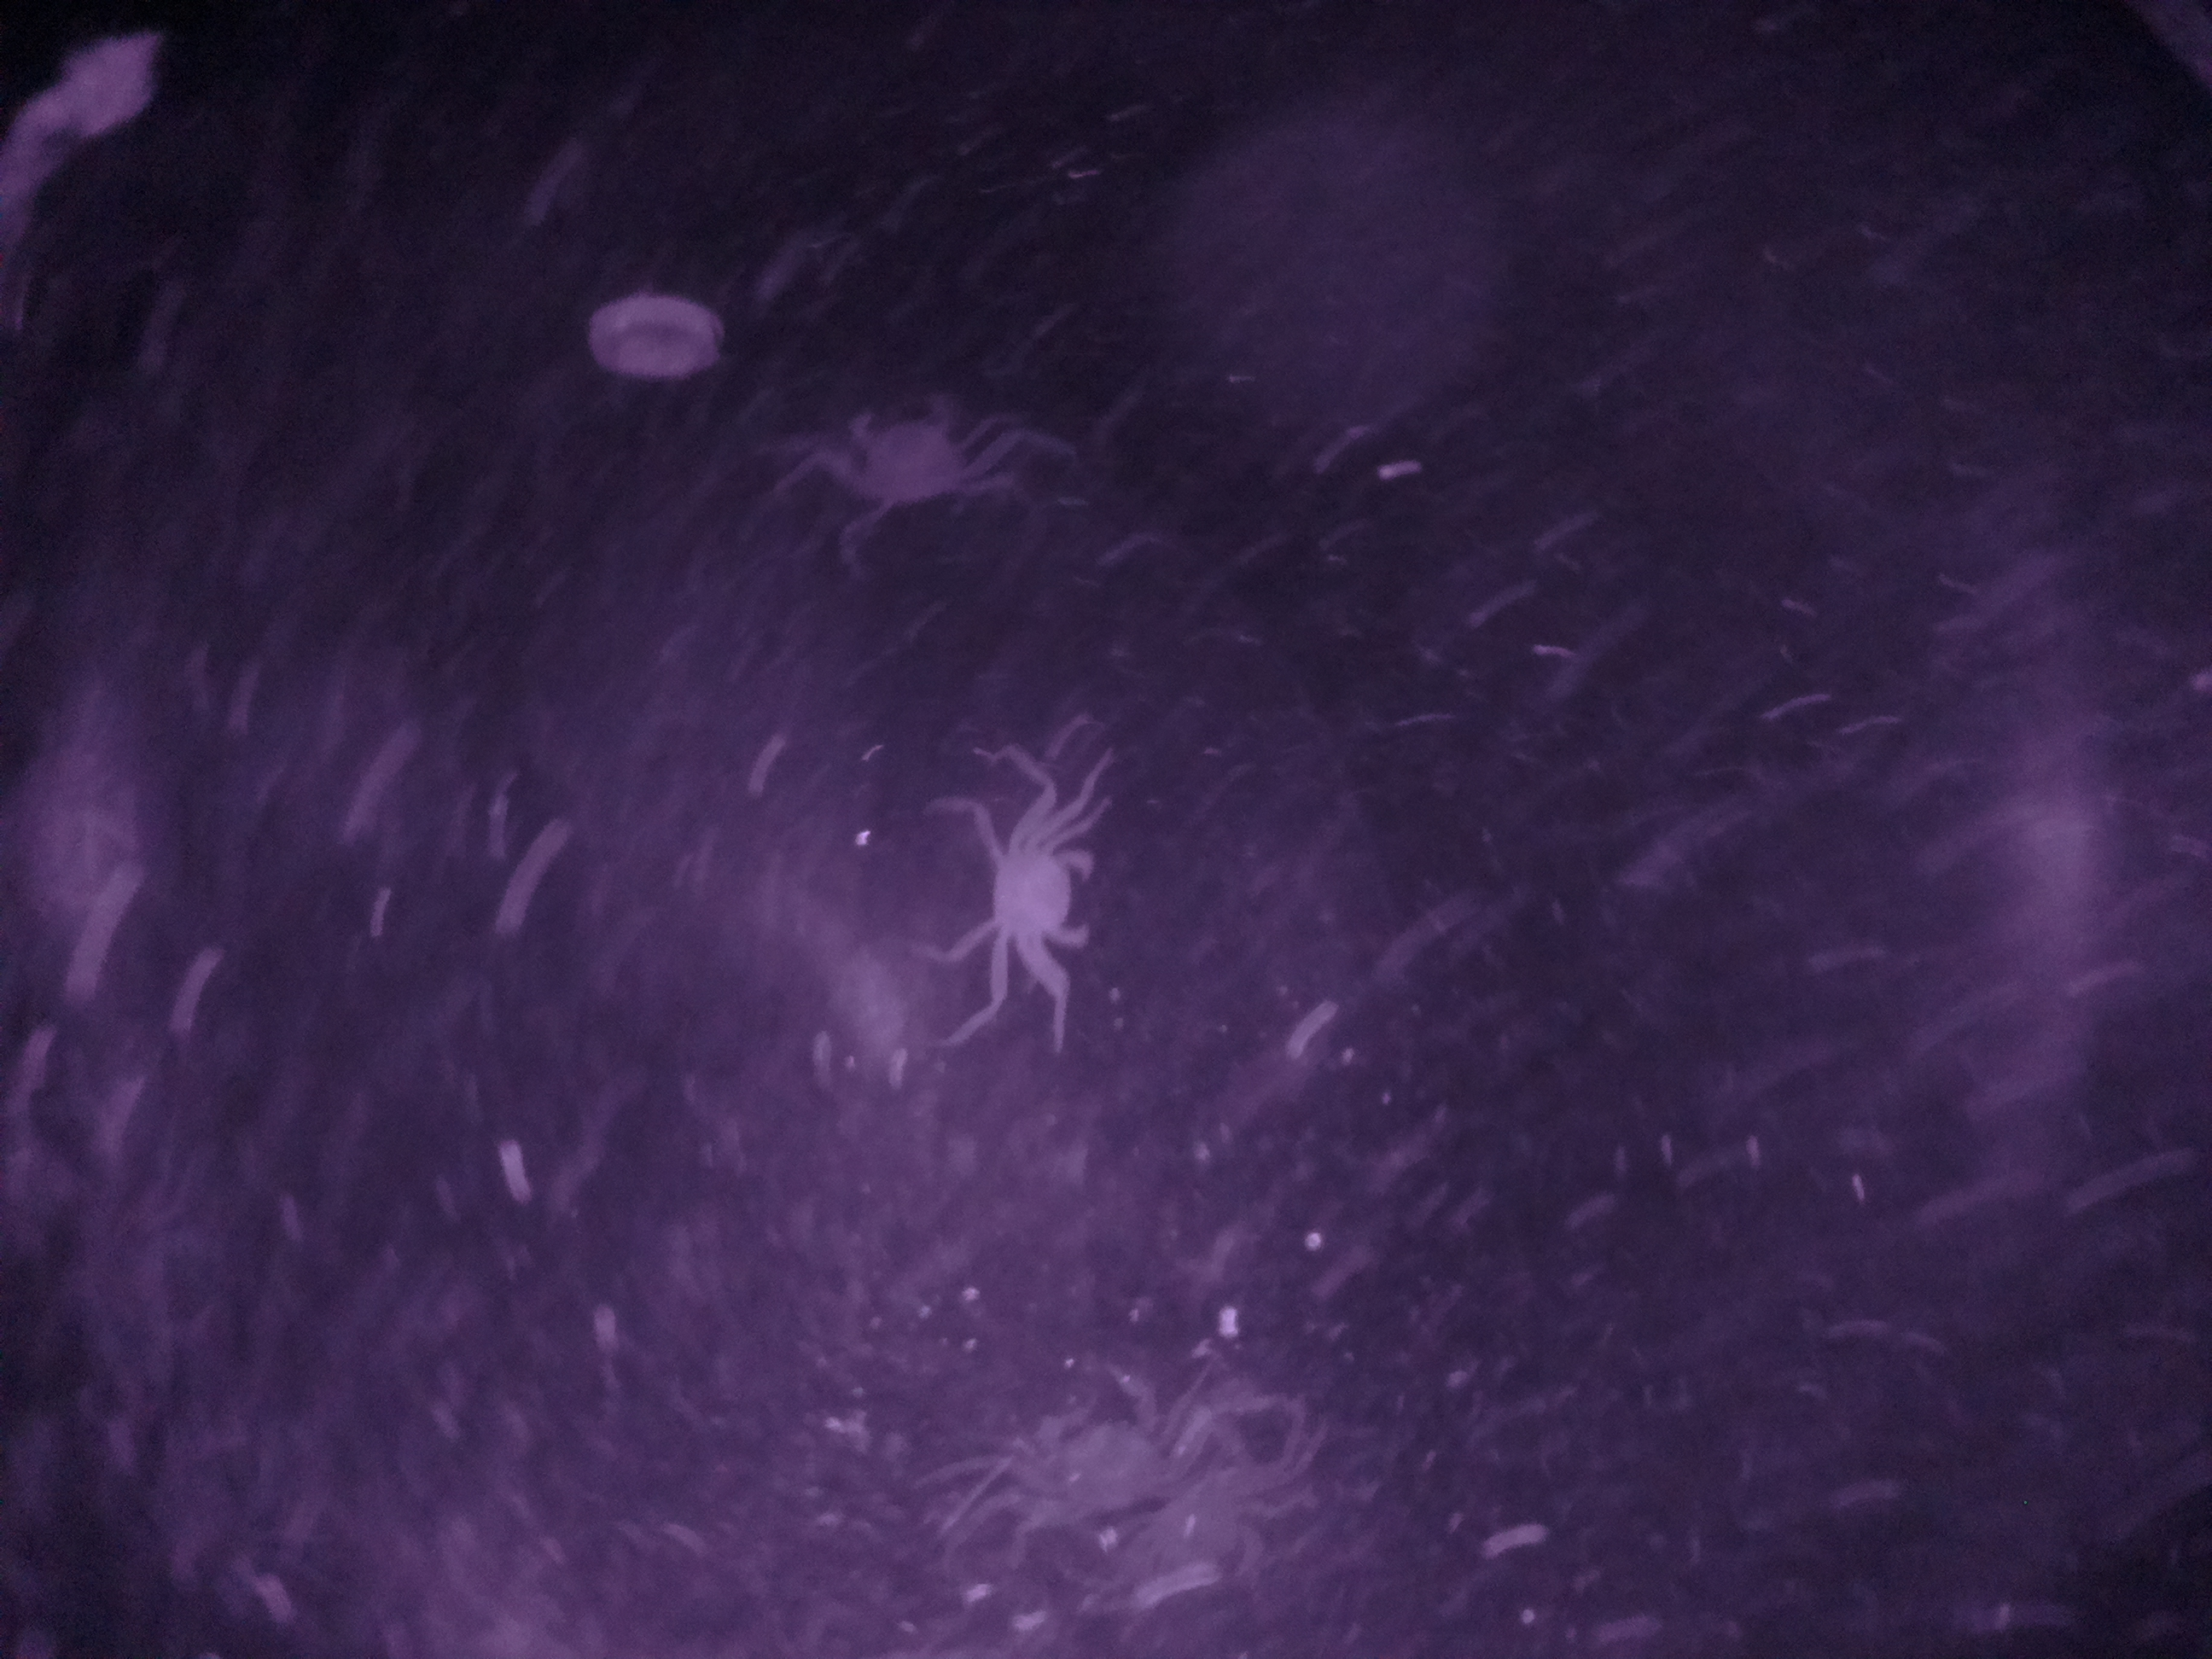Crab: (934, 774, 1111, 1011)
